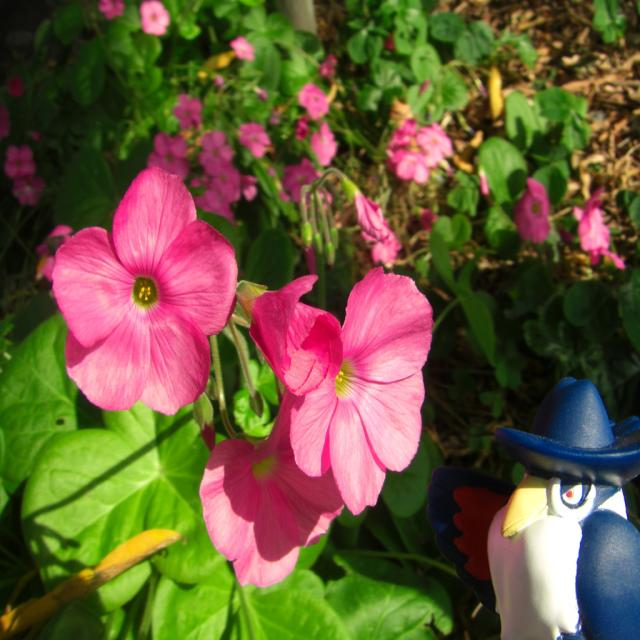Hat: (499, 377, 639, 491)
